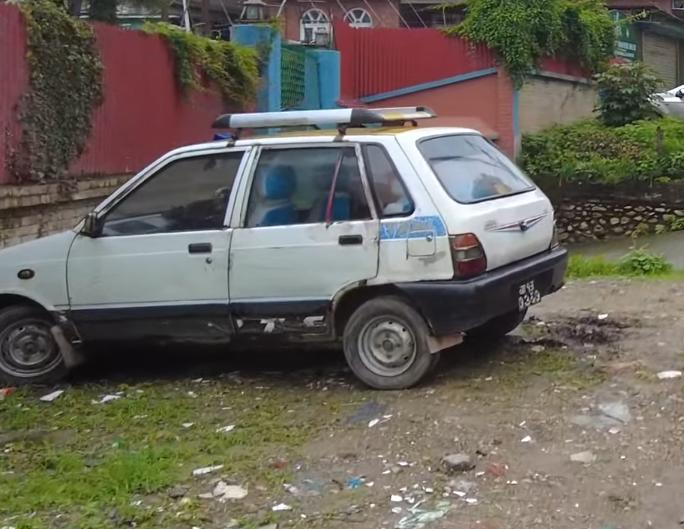taxi: (0, 91, 568, 407)
